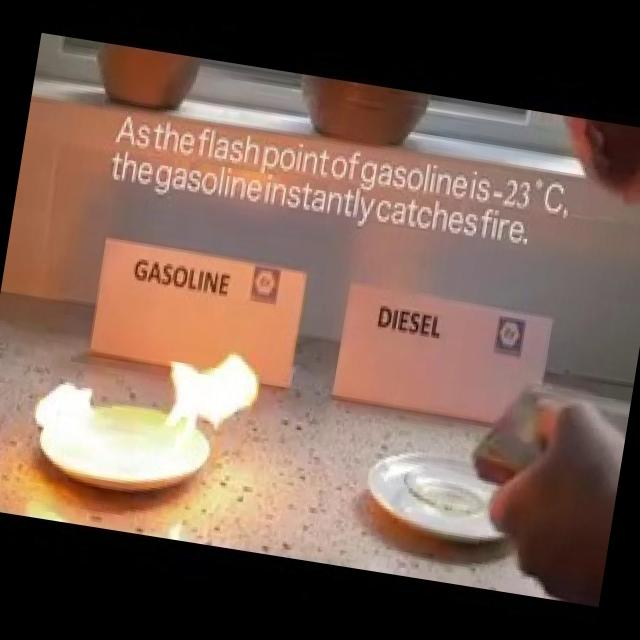Fire: (20, 312, 268, 501)
